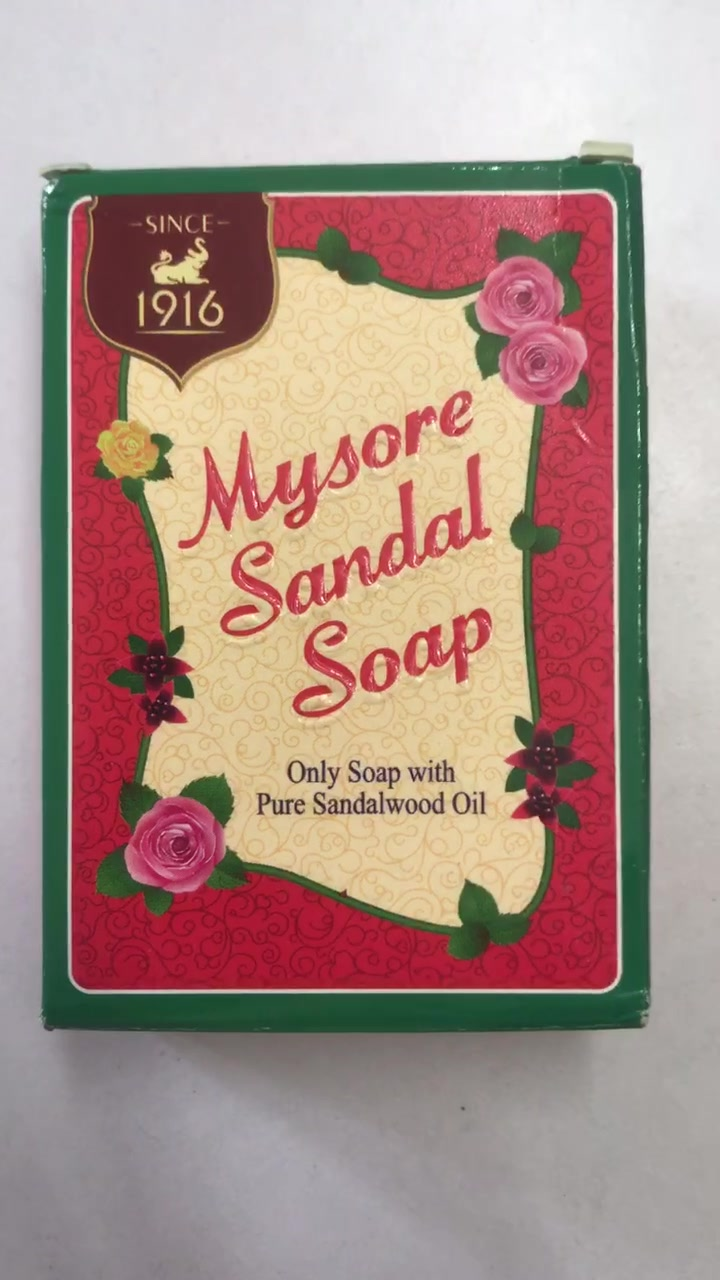mysore sandal soap: (63, 171, 628, 1016)
